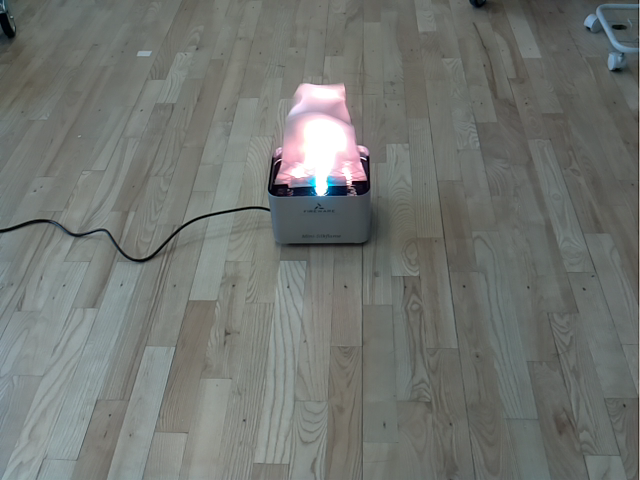fire: (272, 82, 368, 184)
